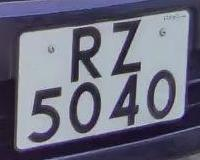0: (66, 78, 109, 143), (143, 64, 181, 124)
4: (107, 69, 146, 133)
5: (23, 81, 69, 151)
R: (62, 21, 111, 82)
Z: (104, 14, 153, 78)
